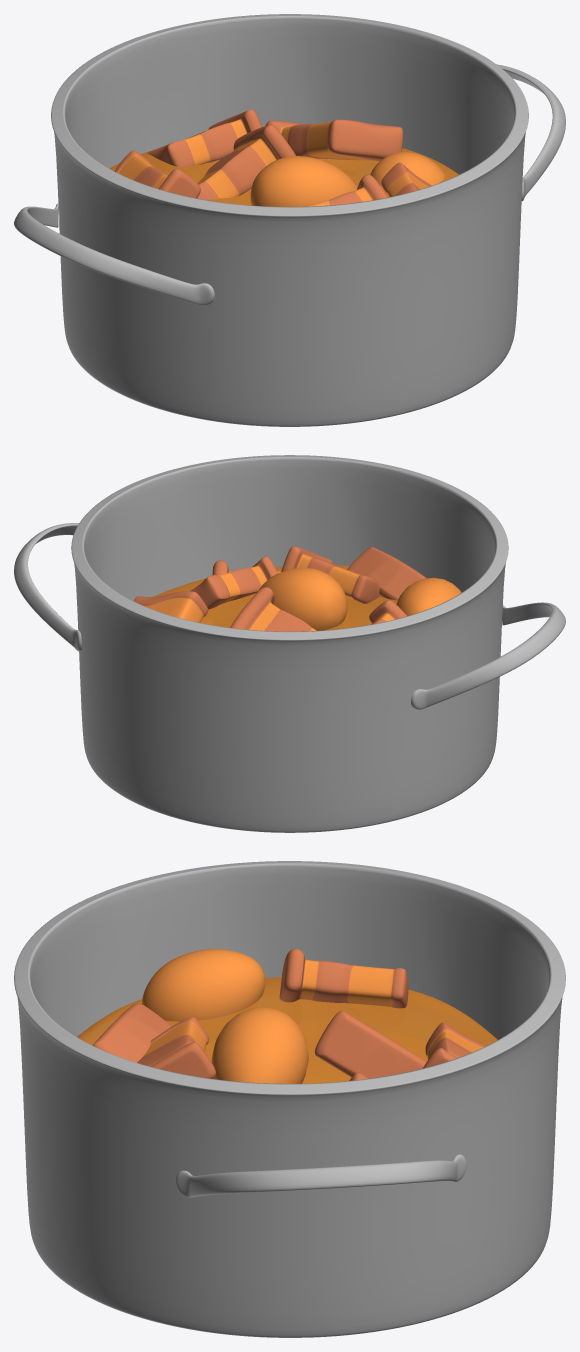
Rendered from braised_meat_with_eggs_-_thit_kho_trung_vietnam.glb.
3 views of the same model, one above another, from view 1: azimuth 30°, elevation 25°; view 2: azimuth 150°, elevation 25°; view 3: azimuth 270°, elevation 25° (orthographic). The views are drawn at different scales.
Parts seen in each view (by area): view 1: polySurface60; view 2: polySurface60; view 3: polySurface60.
Part boxes in pixels (box(x1,y1,x2,y2)): polySurface60: box(14, 14, 565, 426); polySurface60: box(14, 455, 565, 832); polySurface60: box(14, 861, 565, 1337).
Size of the model in its own units: 0.00991 by 0.00393 by 0.00759.
